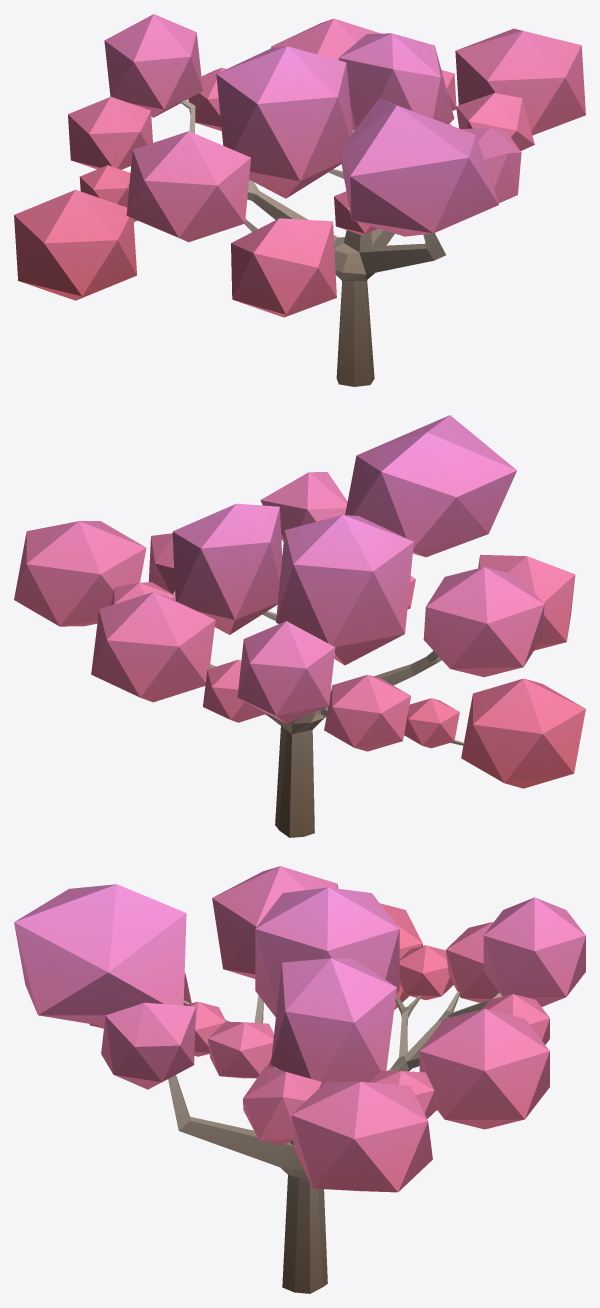
File: Oak Tree.fbx
3 renders of one model, top to bottom at view 1: azimuth 30°, elevation 25°; view 2: azimuth 150°, elevation 25°; view 3: azimuth 270°, elevation 25°, orthographic. The views are drawn at different scales.
Parts seen in each view (by area): view 1: Oak Tree Joined; view 2: Oak Tree Joined; view 3: Oak Tree Joined.
Boxes of the visible parts, <box> form: Oak Tree Joined: <box>14,14,585,386</box>; Oak Tree Joined: <box>14,415,585,837</box>; Oak Tree Joined: <box>14,866,585,1293</box>.
Bounding box in the file's own units: 10940 × 6527 × 8955.
